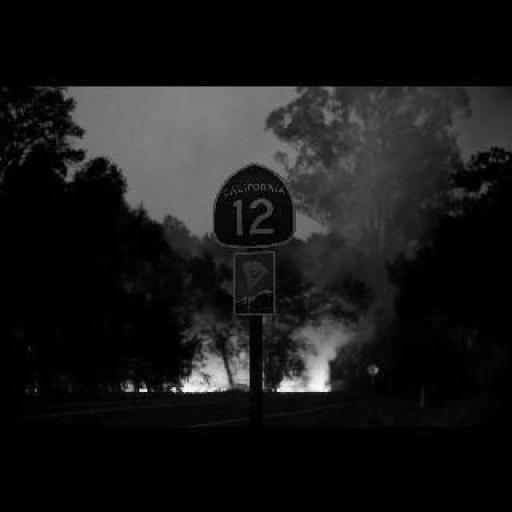smoke: (174, 286, 360, 390)
